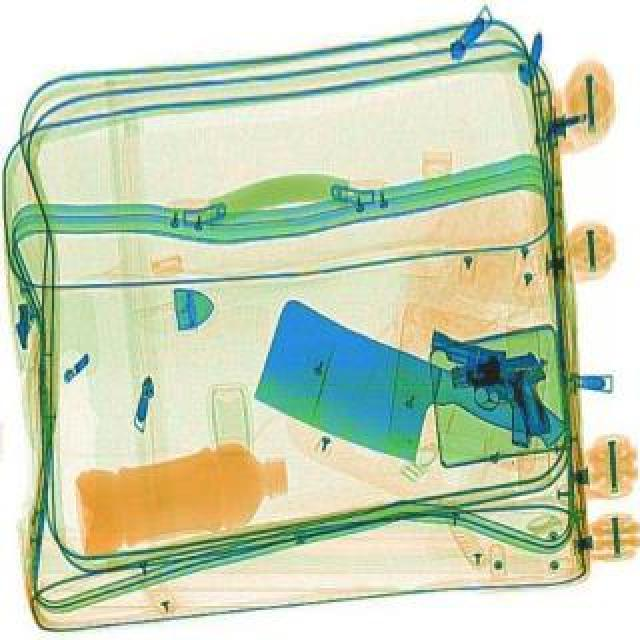gun: (414, 302, 582, 460), (444, 348, 556, 444)
knife: (232, 294, 584, 518)
